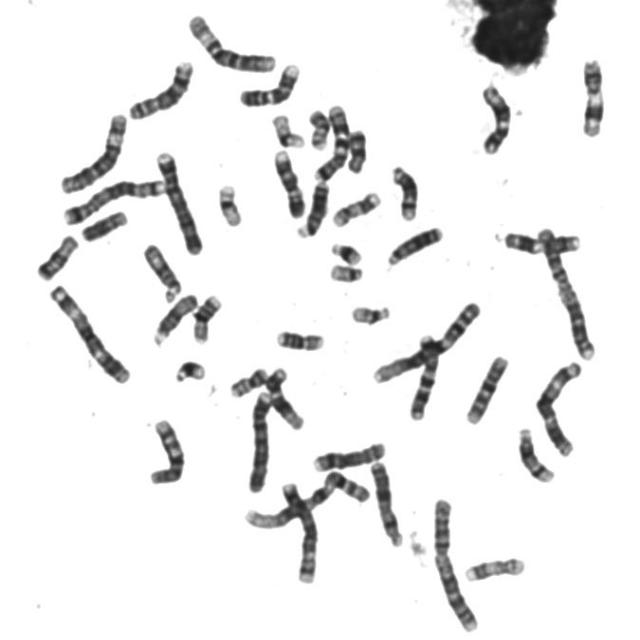A1: (368, 295, 484, 385), (238, 464, 372, 530)
A2: (535, 221, 600, 362), (428, 492, 482, 633)
A3: (44, 277, 134, 385), (531, 354, 586, 458)
B4: (152, 144, 206, 256), (244, 385, 276, 495)
B5: (59, 173, 169, 226), (277, 475, 322, 585)
C10: (462, 348, 513, 427), (144, 412, 189, 487)
C11: (576, 52, 608, 140), (501, 224, 585, 257)
C12: (262, 362, 308, 432), (476, 79, 515, 156)
C6: (56, 106, 131, 196), (184, 7, 280, 74)
C7: (405, 328, 444, 422), (309, 99, 353, 182)
C8: (124, 55, 197, 122), (309, 436, 390, 474)
C9: (235, 55, 304, 109), (269, 144, 309, 219)
D13: (383, 219, 447, 268), (292, 176, 332, 240)
D14: (514, 421, 558, 484), (386, 159, 422, 222)
D15: (148, 287, 201, 347), (139, 238, 185, 304)
E16: (188, 288, 226, 344), (272, 324, 328, 352)
E17: (328, 185, 384, 229), (460, 550, 529, 584)
E18: (32, 229, 82, 282), (77, 204, 131, 243)
F19: (213, 177, 246, 228), (268, 109, 308, 149)
F20: (226, 361, 271, 398), (304, 104, 333, 151)
G21: (170, 353, 210, 384), (327, 236, 366, 266)
G22: (346, 298, 395, 326), (326, 259, 367, 283)
X: (366, 456, 408, 548)
